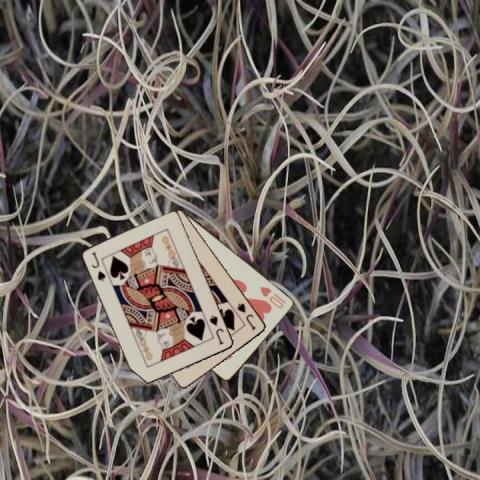10h: (257, 283, 288, 310)
Js: (234, 300, 257, 332), (207, 312, 225, 346), (89, 248, 107, 282)
